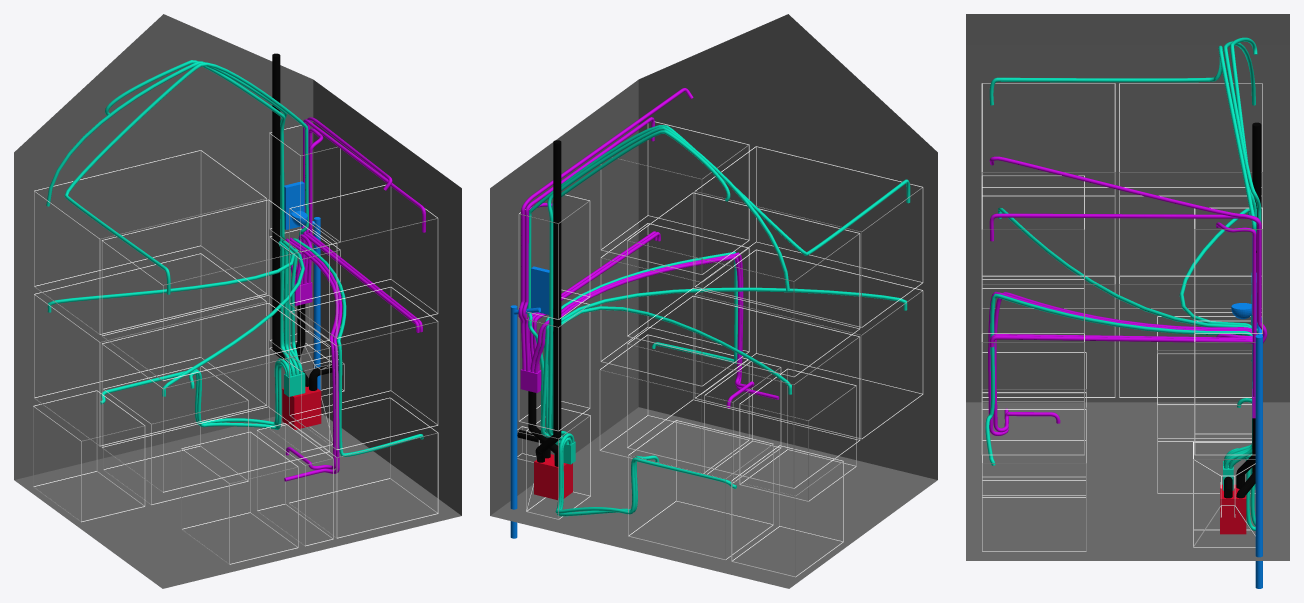
Rendered from optionC.glb.
3 views of the same model, side by side, from view 1: azimuth 30°, elevation 25°; view 2: azimuth 150°, elevation 25°; view 3: azimuth 270°, elevation 25° (orthographic). The views are drawn at different scales.
Visible parts, largest first — view 1: Rall, ComfoTubeInR+2b, R+1salon, R+2chambred, R+1sam, ComfoTubeInR+1b, ComfoTubeInR+0R+1, R+2chambreg, R+1cuisine, ComfoTubeInR+1, ComfoTubeInR+3, R+2sdb (+18 smaller); view 2: Rall, ComfoTubeInR+2, ComfoTubeInR+2b, R+1salon, R+1sam, R+2chambred, WCcolonne, R+2chambreg, ComfoTubeOutR+0R+1, ComfoTubeInR+1, ComfoTubeOutR+3, ComfoTubeInR+0R+1 (+19 smaller); view 3: Rall, ComfoTubeInR+2b, ComfoTubeInR+0R+1, WCcolonne, ComfoTubeOutR+3, ComfoTubeInR+1, ComfoTubeOutR+0R+1, ComfoTubeOutR+2R+3, ComfoTubeOutR+1c, R+2chambreg, ComfoTubeInR+2, ComfoAir (+18 smaller).
Boxes of the visible parts, bbox=[...] form: Rall: bbox=[14, 14, 461, 588]; ComfoTubeInR+2b: bbox=[64, 62, 308, 370]; R+1salon: bbox=[34, 253, 266, 446]; R+2chambred: bbox=[34, 150, 266, 334]; R+1sam: bbox=[101, 303, 329, 492]; ComfoTubeInR+1b: bbox=[47, 241, 295, 375]; ComfoTubeInR+0R+1: bbox=[287, 238, 423, 456]; R+2chambreg: bbox=[101, 199, 329, 380]; R+1cuisine: bbox=[289, 287, 438, 449]; ComfoTubeInR+1: bbox=[162, 241, 304, 396]; ComfoTubeInR+3: bbox=[105, 60, 295, 372]; R+2sdb: bbox=[289, 184, 438, 338]; Rall: bbox=[490, 14, 937, 588]; ComfoTubeInR+2: bbox=[547, 127, 789, 443]; ComfoTubeInR+2b: bbox=[527, 125, 910, 441]; R+1salon: bbox=[627, 295, 860, 488]; R+1sam: bbox=[694, 249, 923, 439]; R+2chambred: bbox=[627, 192, 860, 377]; WCcolonne: bbox=[510, 305, 517, 538]; R+2chambreg: bbox=[694, 146, 923, 327]; ComfoTubeOutR+0R+1: bbox=[534, 255, 754, 408]; ComfoTubeInR+1: bbox=[548, 287, 907, 436]; ComfoTubeOutR+3: bbox=[518, 88, 693, 370]; ComfoTubeInR+0R+1: bbox=[544, 251, 737, 436]; Rall: bbox=[966, 14, 1289, 560]; ComfoTubeInR+2b: bbox=[989, 45, 1257, 468]; ComfoTubeInR+0R+1: bbox=[985, 293, 1252, 468]; WCcolonne: bbox=[1255, 335, 1262, 588]; ComfoTubeOutR+3: bbox=[989, 156, 1267, 343]; ComfoTubeInR+1: bbox=[998, 207, 1252, 465]; ComfoTubeOutR+0R+1: bbox=[993, 292, 1257, 432]; ComfoTubeOutR+2R+3: bbox=[989, 213, 1266, 335]; ComfoTubeOutR+1c: bbox=[990, 335, 1252, 347]; R+2chambreg: bbox=[981, 83, 1115, 276]; ComfoTubeInR+2: bbox=[1223, 41, 1261, 222]; ComfoAir: bbox=[1220, 484, 1246, 534].
Bounding box in the file's own units: 8.15 × 11.94 × 7.02.
